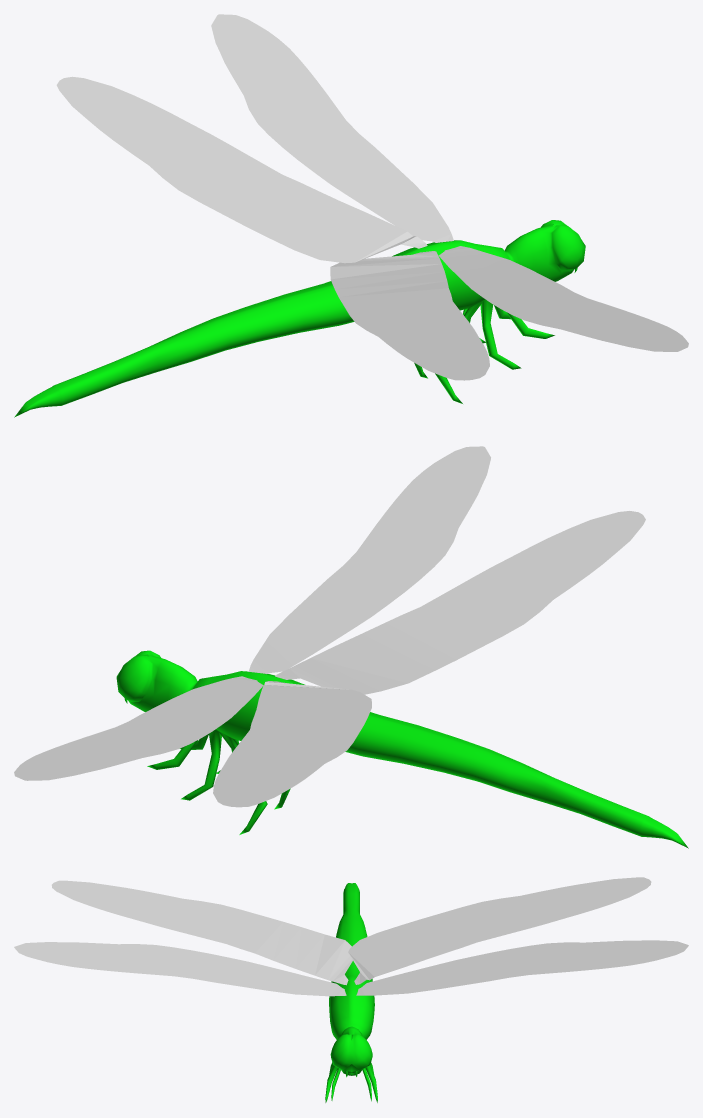
The model's file is 3D_NP_DF-rig.FBX.
The picture shows the model from 3 angles, top to bottom: view 1: azimuth 30°, elevation 25°; view 2: azimuth 150°, elevation 25°; view 3: azimuth 270°, elevation 25°; orthographic projection. The views are drawn at different scales.
Parts seen in each view (by area): view 1: Plane005; view 2: Plane005; view 3: Plane005.
Boxes of the visible parts, <box> form: Plane005: <box>14,14,688,417</box>; Plane005: <box>14,446,688,848</box>; Plane005: <box>14,877,688,1102</box>.
Size of the model in its own units: 57.72 by 80.72 by 20.3.
